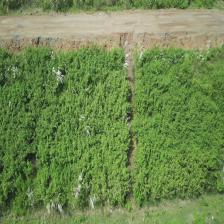vegetation: (0, 51, 127, 202), (136, 50, 224, 206)
